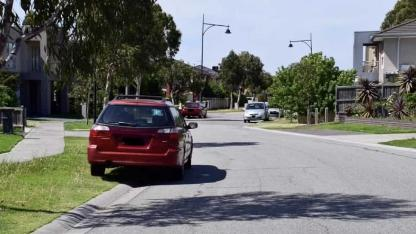car: (84, 95, 201, 182), (242, 98, 270, 123)
